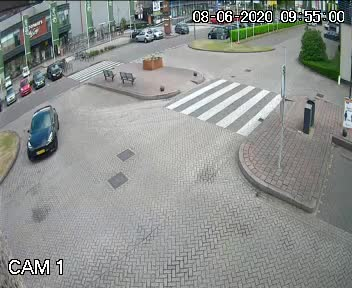car: (17, 98, 75, 166)
